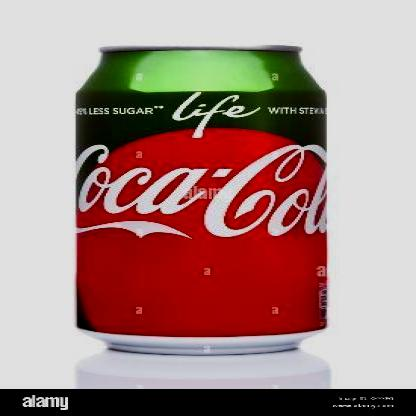alumunium_can: (72, 40, 332, 358)
